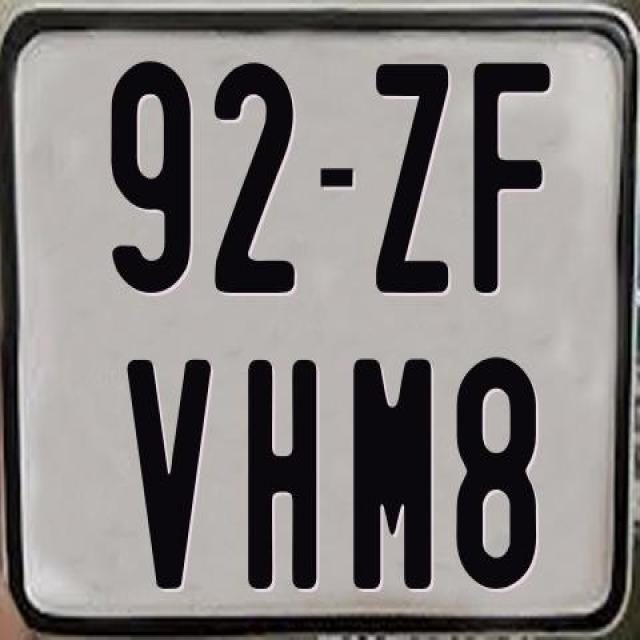2: (210, 59, 294, 291)
8: (454, 357, 540, 589)
9: (109, 61, 191, 294)
F: (472, 61, 557, 293)
H: (248, 358, 318, 589)
M: (352, 356, 430, 588)
V: (126, 358, 218, 592)
Z: (376, 64, 452, 293)
